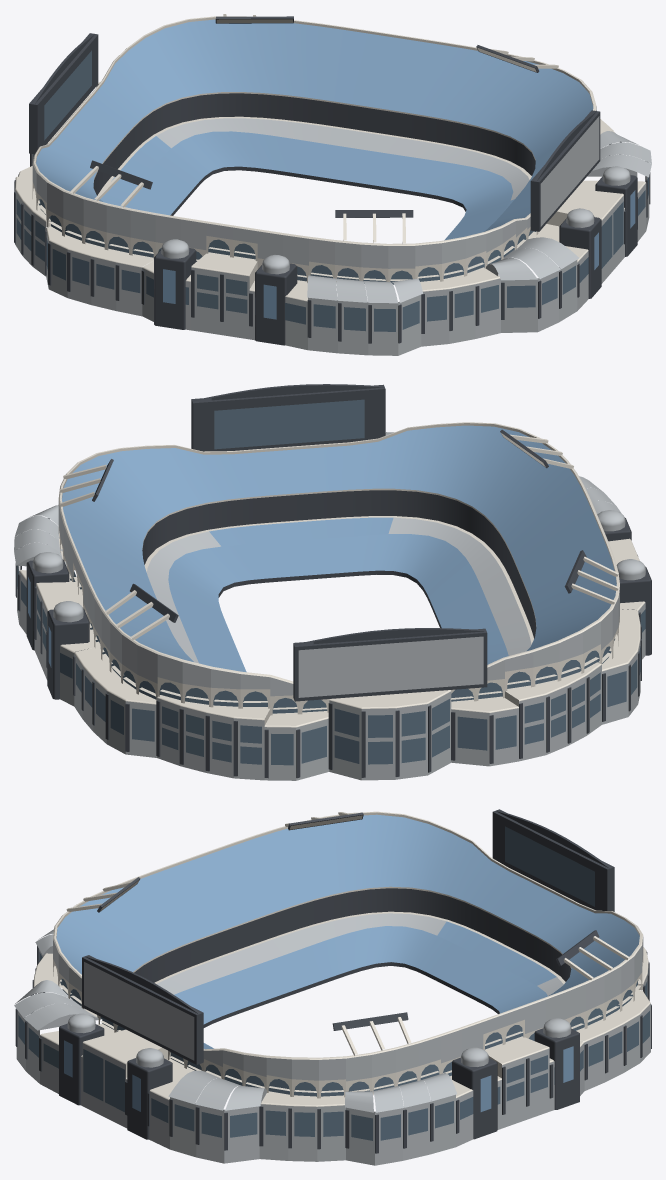
3 renders of one model, top to bottom at view 1: azimuth 30°, elevation 25°; view 2: azimuth 150°, elevation 25°; view 3: azimuth 270°, elevation 25°, orthographic. The views are drawn at different scales.
Parts seen in each view (by area): view 1: bank-of-america-stadium; view 2: bank-of-america-stadium; view 3: bank-of-america-stadium.
Boxes of the visible parts, box(x1,y1,x2,y2) form: bank-of-america-stadium: box(14, 14, 651, 355); bank-of-america-stadium: box(14, 384, 651, 780); bank-of-america-stadium: box(14, 809, 651, 1165).
Size of the model in its own units: 275 by 60.5 by 278.
